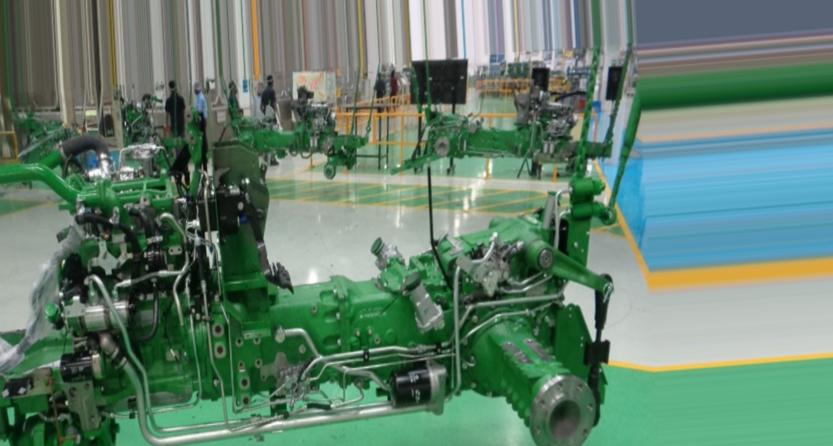engine: (0, 111, 621, 446)
